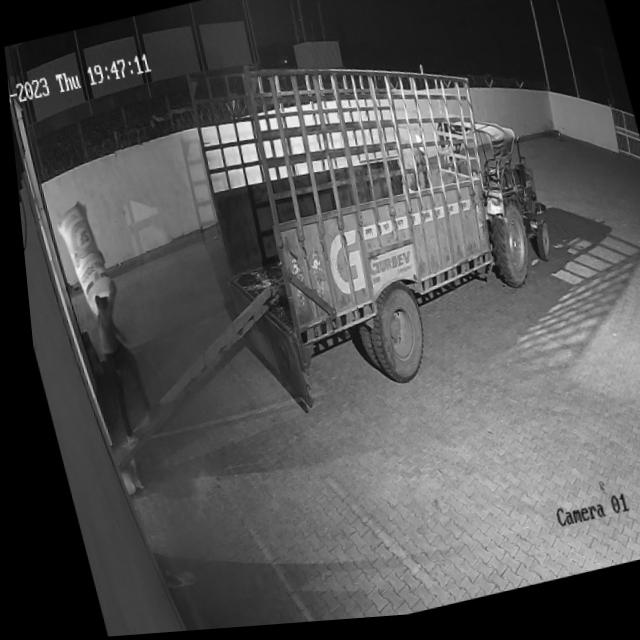sack: (47, 198, 113, 322)
